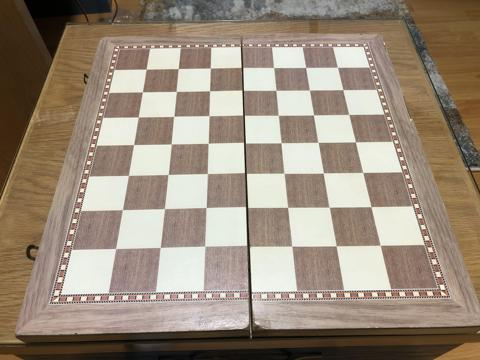xcorner: (333, 61, 345, 73), (301, 61, 313, 73), (270, 62, 282, 74), (238, 62, 250, 74), (174, 63, 186, 75), (142, 63, 154, 75), (305, 84, 317, 96), (272, 84, 284, 96), (239, 85, 251, 97), (205, 85, 217, 97), (172, 86, 184, 98), (138, 86, 150, 98), (204, 110, 216, 122), (169, 111, 181, 123), (134, 111, 146, 123), (351, 136, 363, 148), (314, 136, 326, 148), (129, 139, 141, 151), (358, 166, 370, 178), (124, 170, 136, 182), (284, 202, 296, 214), (243, 203, 255, 215), (160, 204, 172, 216), (118, 205, 130, 217), (376, 239, 388, 251), (332, 240, 344, 252), (288, 241, 300, 253), (244, 242, 256, 254), (111, 244, 123, 256), (206, 63, 218, 74), (345, 108, 356, 120), (310, 109, 321, 121), (275, 109, 286, 121), (240, 110, 251, 122), (278, 137, 289, 149), (241, 137, 252, 149), (204, 138, 215, 150), (166, 139, 178, 150), (320, 167, 331, 179), (281, 168, 293, 179), (242, 168, 253, 180), (203, 169, 214, 181), (163, 170, 175, 181), (367, 201, 379, 212), (326, 201, 337, 213), (201, 204, 213, 215), (200, 243, 212, 254), (156, 244, 168, 255), (339, 84, 350, 95)
